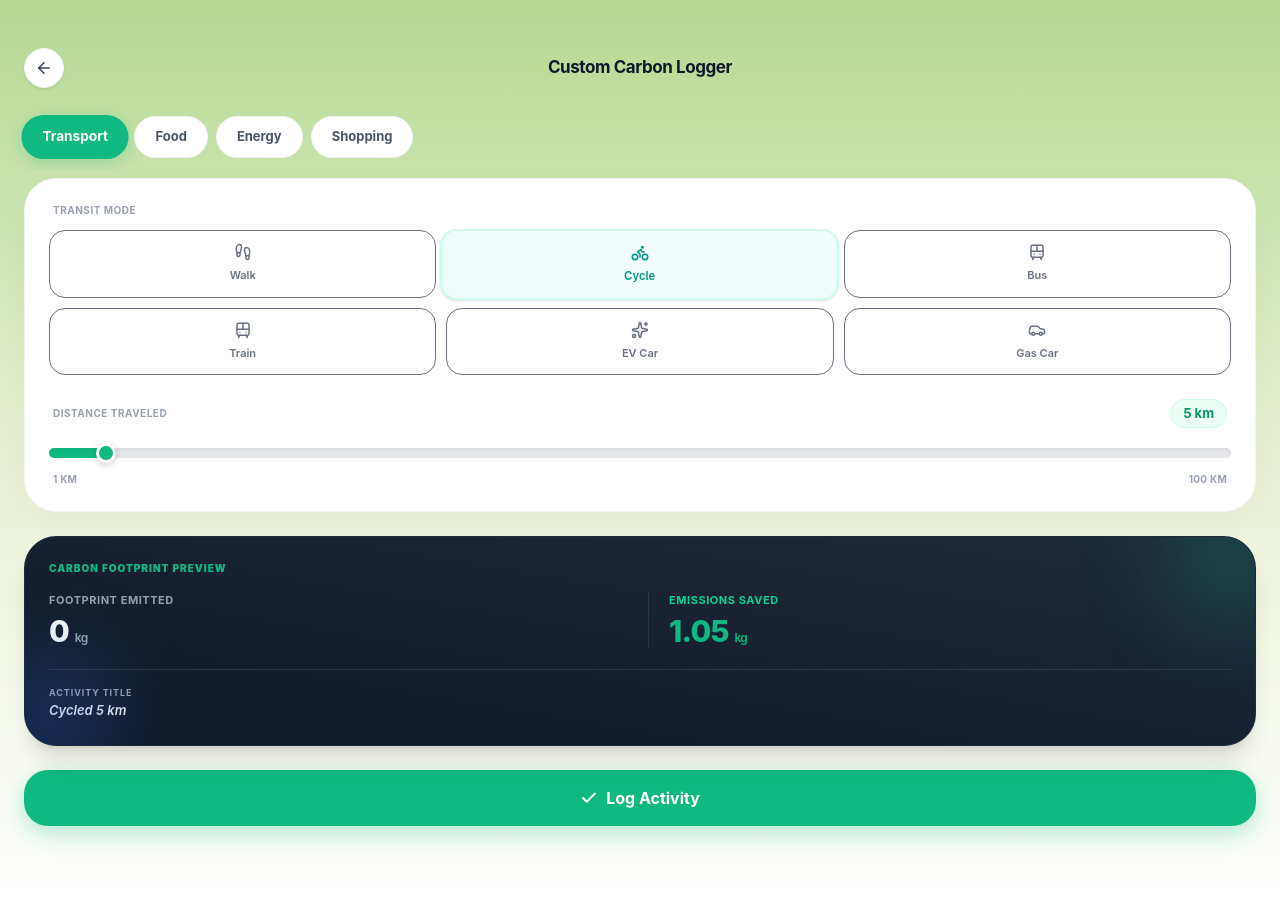
ActivityTracker Page Component › allows switching tabs and displays corresponding options
Click on Food tab
What coordinates should you click on to do the following:
click the button "Food"
I would click on:
 (171, 137)
Its box is [134, 116, 208, 158].
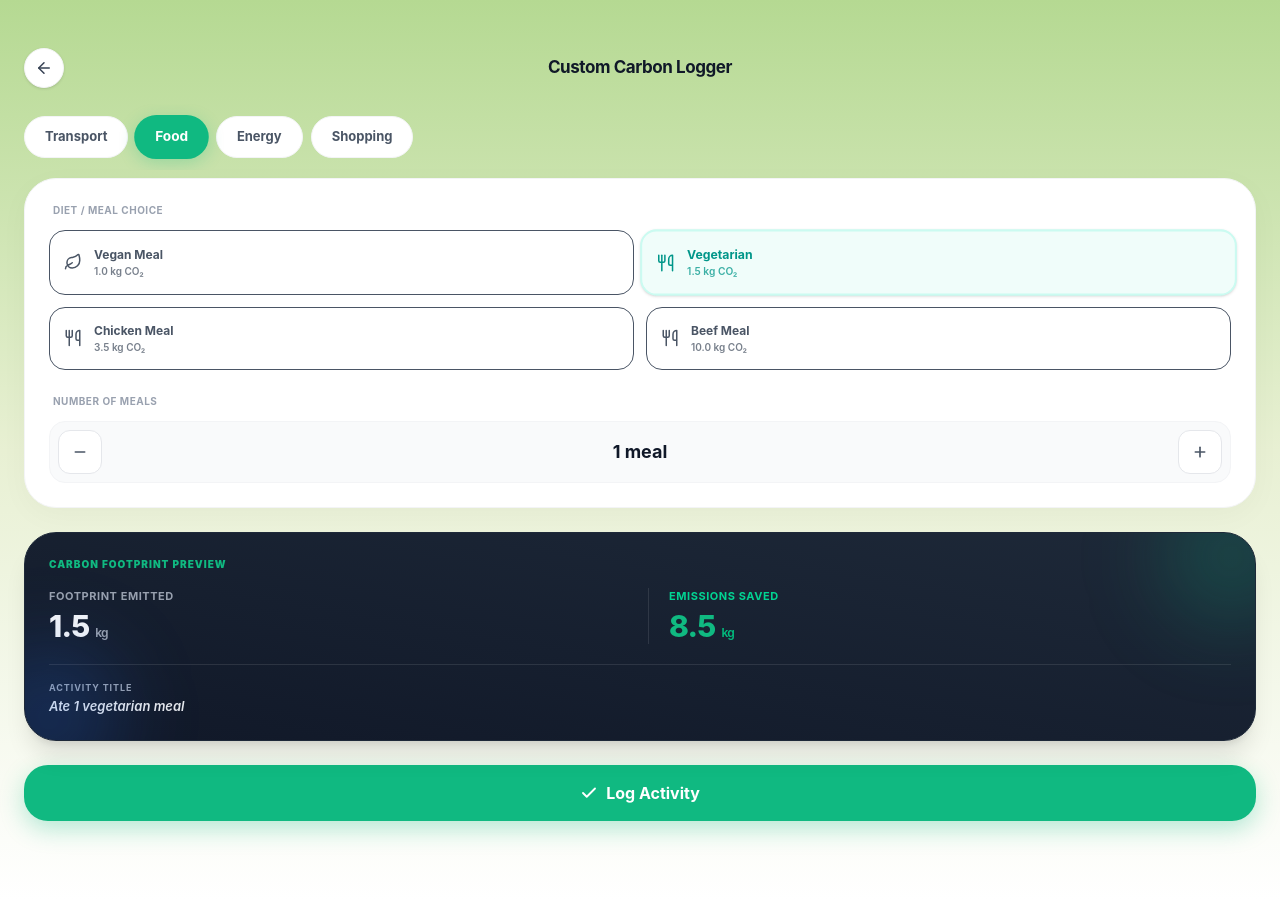
expect the text "Diet / Meal choice" is shown: met, box [53, 204, 163, 216]
expect the text "Vegan Meal" is shown: met, box [94, 246, 163, 264]
expect the text "Beef Meal" is shown: met, box [691, 322, 750, 340]
Click on Energy tab
What coordinates should you click on to do the following:
click the button "Energy"
I would click on:
 (259, 137)
Its box is [216, 116, 303, 158].
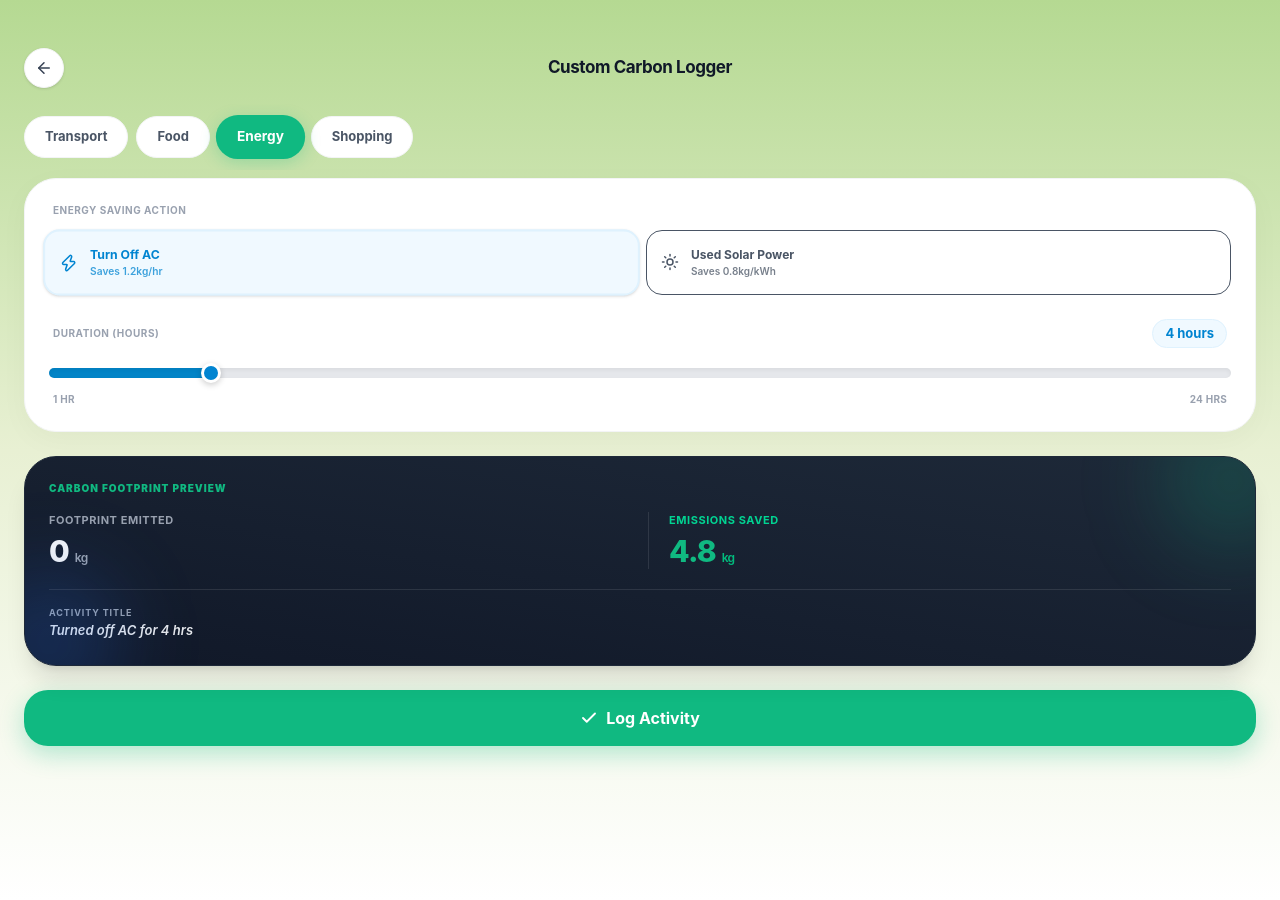
expect the text "Energy Saving Action" is shown: met, box [53, 204, 186, 216]
expect the text "Turn Off AC" is shown: met, box [90, 245, 162, 264]
